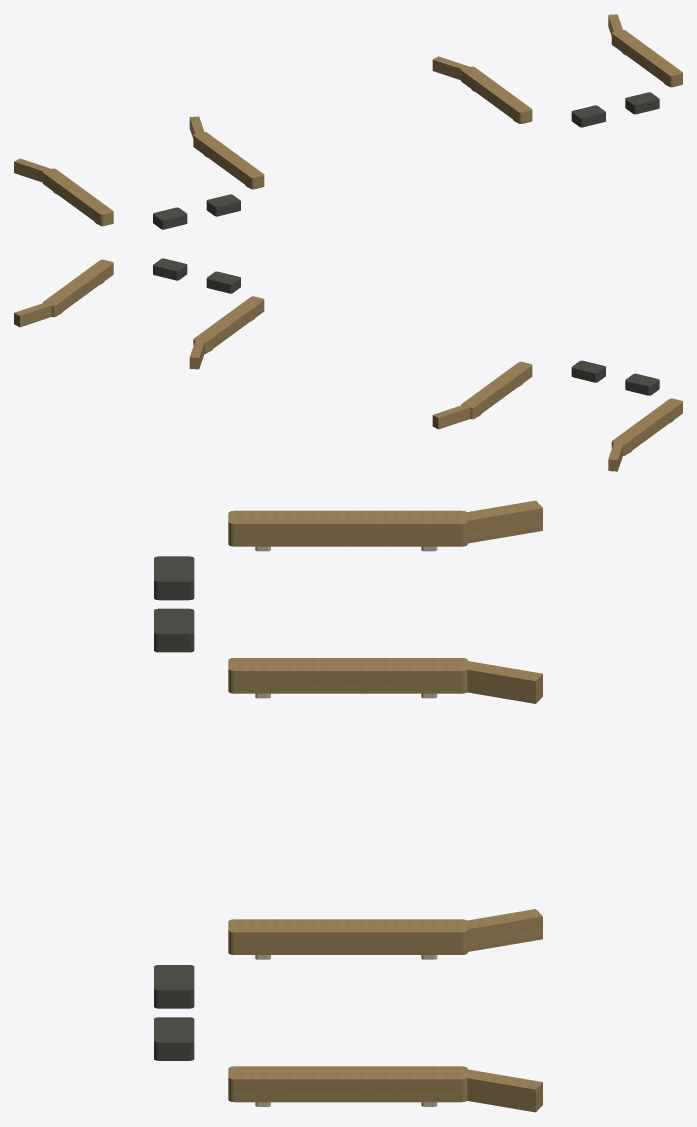
The model's file is D04_COMMONS_CART_DOCKS_r001.glb.
The picture shows the model from 3 angles, top to bottom: view 1: azimuth 30°, elevation 25°; view 2: azimuth 150°, elevation 25°; view 3: azimuth 270°, elevation 25°; orthographic projection. The views are drawn at different scales.
Visible parts, largest first — view 1: D04CD_ClosedUsed_Guide_-1, D04CD_Clean_Guide_1, D04CD_ClosedUsed_Guide_1, D04CD_Clean_Guide_-1, D04CD_Clean_WheelStop_1, D04CD_ClosedUsed_WheelStop_1, D04CD_Clean_WheelStop_-1, D04CD_ClosedUsed_WheelStop_-1, D04CD_Clean_Flare_-1, D04CD_ClosedUsed_Flare_-1; view 2: D04CD_Clean_Guide_1, D04CD_ClosedUsed_Guide_1, D04CD_ClosedUsed_Guide_-1, D04CD_Clean_Guide_-1, D04CD_Clean_Flare_1, D04CD_ClosedUsed_Flare_1, D04CD_ClosedUsed_WheelStop_1, D04CD_Clean_WheelStop_1, D04CD_Clean_WheelStop_-1, D04CD_ClosedUsed_WheelStop_-1, D04CD_ClosedUsed_Flare_-1, D04CD_Clean_Flare_-1; view 3: D04CD_Clean_Guide_-1, D04CD_ClosedUsed_Guide_1, D04CD_Clean_Guide_1, D04CD_ClosedUsed_Guide_-1, D04CD_ClosedUsed_Flare_1, D04CD_Clean_Flare_1, D04CD_Clean_Flare_-1, D04CD_ClosedUsed_Flare_-1, D04CD_Clean_WheelStop_1, D04CD_Clean_WheelStop_-1, D04CD_ClosedUsed_WheelStop_-1, D04CD_ClosedUsed_WheelStop_1.
Part boxes in pixels (<box>): D04CD_ClosedUsed_Guide_-1: <box>461,66,532,123</box>; D04CD_Clean_Guide_1: <box>193,132,264,189</box>; D04CD_ClosedUsed_Guide_1: <box>611,30,682,87</box>; D04CD_Clean_Guide_-1: <box>42,168,113,226</box>; D04CD_Clean_WheelStop_1: <box>206,194,240,216</box>; D04CD_ClosedUsed_WheelStop_1: <box>625,92,659,114</box>; D04CD_Clean_WheelStop_-1: <box>153,207,187,229</box>; D04CD_ClosedUsed_WheelStop_-1: <box>571,105,605,127</box>; D04CD_Clean_Flare_-1: <box>14,158,52,182</box>; D04CD_ClosedUsed_Flare_-1: <box>432,56,469,80</box>; D04CD_Clean_Guide_1: <box>461,361,532,419</box>; D04CD_ClosedUsed_Guide_1: <box>42,259,113,317</box>; D04CD_ClosedUsed_Guide_-1: <box>193,296,264,353</box>; D04CD_Clean_Guide_-1: <box>611,398,682,455</box>; D04CD_Clean_Flare_1: <box>432,405,470,429</box>; D04CD_ClosedUsed_Flare_1: <box>14,302,52,327</box>; D04CD_ClosedUsed_WheelStop_1: <box>153,258,187,280</box>; D04CD_Clean_WheelStop_1: <box>571,360,605,382</box>; D04CD_Clean_WheelStop_-1: <box>625,373,659,395</box>; D04CD_ClosedUsed_WheelStop_-1: <box>206,271,240,293</box>; D04CD_ClosedUsed_Flare_-1: <box>189,340,204,369</box>; D04CD_Clean_Flare_-1: <box>608,442,623,471</box>; D04CD_Clean_Guide_-1: <box>228,510,467,546</box>; D04CD_ClosedUsed_Guide_1: <box>228,1066,467,1102</box>; D04CD_Clean_Guide_1: <box>228,658,467,693</box>; D04CD_ClosedUsed_Guide_-1: <box>228,919,467,954</box>; D04CD_ClosedUsed_Flare_1: <box>459,1069,542,1112</box>; D04CD_Clean_Flare_1: <box>459,661,542,703</box>; D04CD_Clean_Flare_-1: <box>462,500,542,543</box>; D04CD_ClosedUsed_Flare_-1: <box>467,909,542,951</box>; D04CD_Clean_WheelStop_1: <box>154,608,194,652</box>; D04CD_Clean_WheelStop_-1: <box>154,556,194,600</box>; D04CD_ClosedUsed_WheelStop_-1: <box>154,965,194,1008</box>; D04CD_ClosedUsed_WheelStop_1: <box>154,1017,194,1060</box>.
Size of the model in its own units: 7.21 by 0.175 by 2.01.
Materials: 3 (2 with a texture image).
